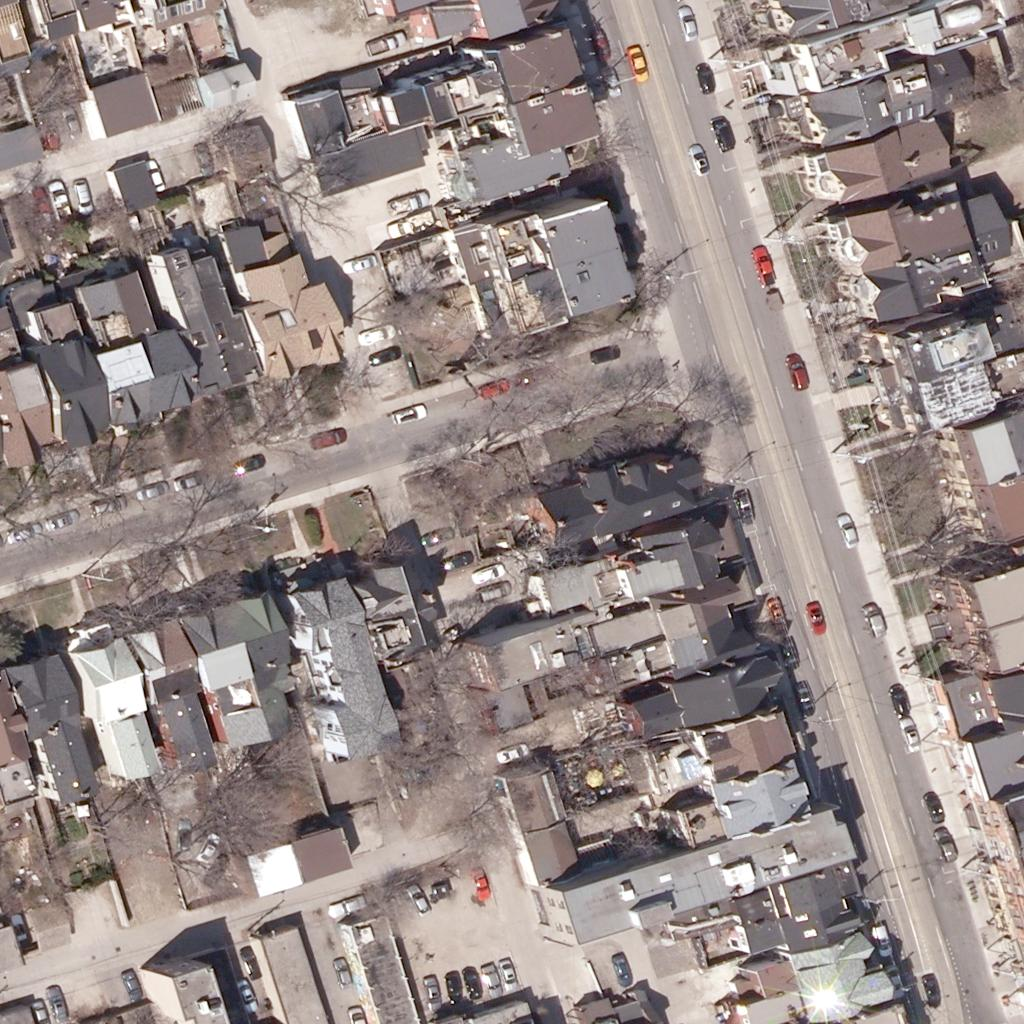car: (673, 7, 707, 41), (373, 25, 407, 59), (583, 25, 617, 59), (620, 44, 654, 78), (691, 59, 725, 93), (594, 62, 628, 96), (57, 105, 91, 139), (705, 114, 739, 148), (34, 117, 68, 151), (187, 140, 221, 174), (682, 145, 716, 179), (138, 160, 172, 194), (43, 180, 77, 214), (67, 180, 101, 214), (394, 184, 428, 218), (24, 187, 58, 221), (390, 209, 424, 243), (747, 246, 781, 280), (345, 248, 379, 282), (359, 315, 393, 349), (367, 337, 401, 371), (587, 337, 621, 371), (783, 355, 817, 389), (478, 371, 512, 405), (392, 396, 426, 430), (311, 422, 345, 456), (231, 446, 265, 480), (171, 462, 205, 496), (134, 474, 168, 508), (94, 488, 128, 522), (728, 488, 762, 522), (44, 503, 78, 537), (833, 514, 867, 548), (6, 516, 40, 550), (419, 518, 453, 552), (442, 543, 476, 577), (472, 558, 506, 592), (480, 573, 514, 607), (760, 595, 794, 629), (800, 602, 834, 636), (859, 603, 893, 637), (773, 635, 807, 669), (787, 678, 821, 712), (883, 681, 917, 715), (895, 717, 929, 751), (495, 737, 529, 771), (916, 787, 950, 821), (166, 818, 200, 852), (192, 829, 226, 863), (928, 831, 962, 865), (200, 851, 234, 885), (463, 865, 497, 899), (402, 884, 436, 918), (332, 887, 366, 921), (0, 909, 34, 943), (864, 923, 898, 957), (233, 946, 267, 980), (605, 950, 639, 984), (492, 955, 526, 989), (325, 957, 359, 991), (474, 962, 508, 996), (880, 965, 914, 999), (116, 966, 150, 1000), (455, 967, 489, 1001), (436, 968, 470, 1002), (914, 973, 948, 1007), (416, 975, 450, 1009), (230, 977, 264, 1011), (40, 988, 74, 1022), (24, 997, 58, 1024)
